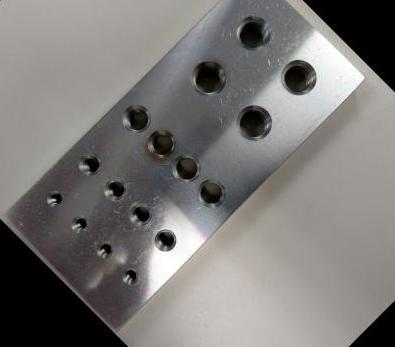hole: (182, 52, 234, 104), (272, 51, 324, 103), (228, 96, 280, 148), (227, 8, 277, 58), (190, 171, 233, 214), (165, 146, 207, 189), (115, 98, 157, 139), (140, 123, 182, 164), (98, 171, 133, 206), (123, 197, 157, 231), (148, 223, 182, 257), (73, 147, 106, 180), (66, 211, 92, 236), (92, 237, 117, 262), (117, 263, 142, 288), (42, 186, 67, 210)
